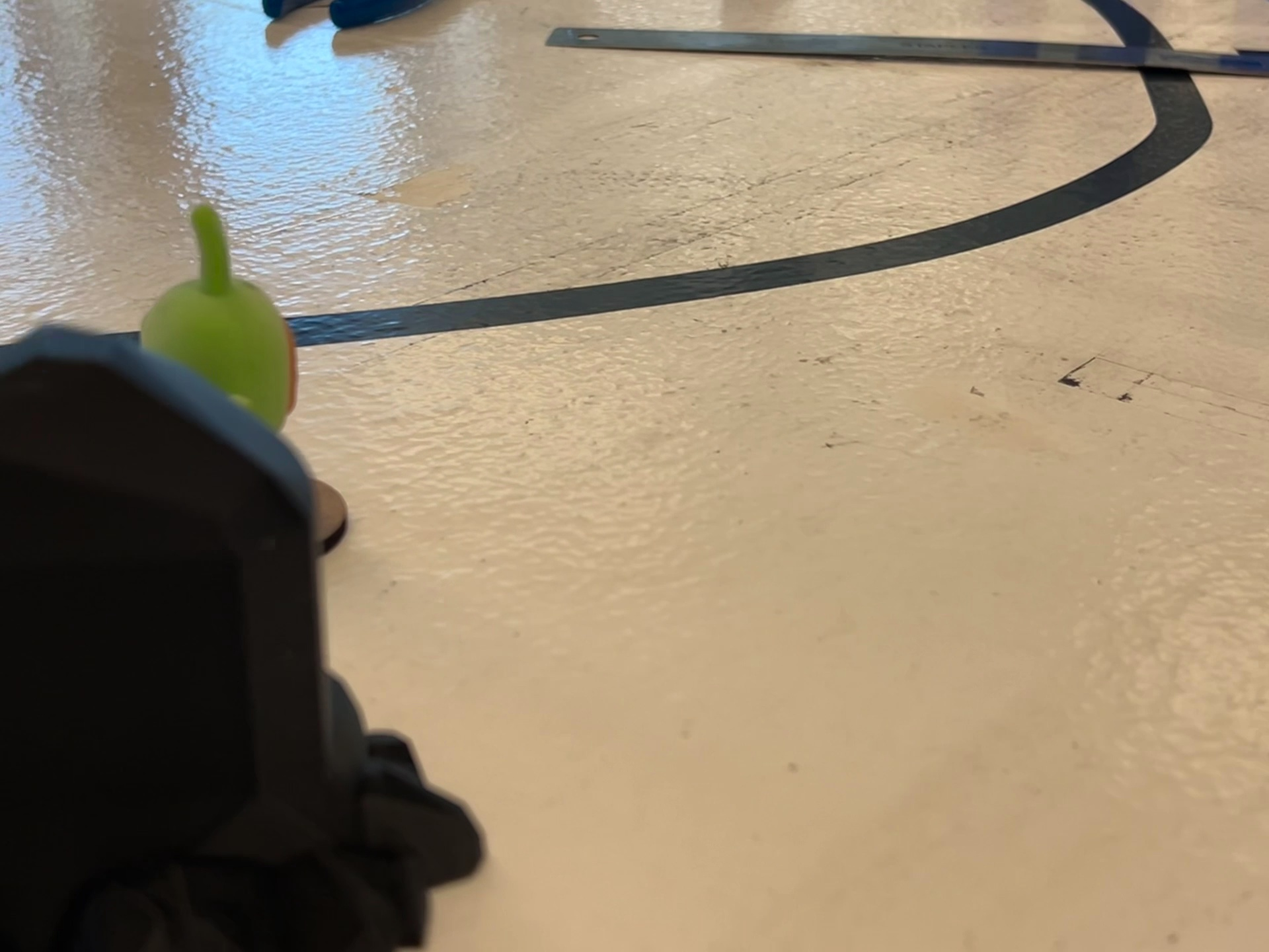teletubby: (140, 205, 297, 432)
